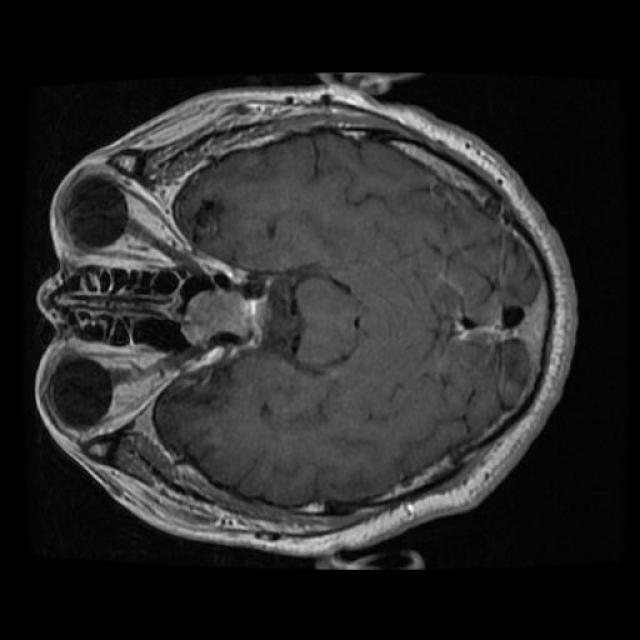Pituitary: (180, 288, 256, 343)
